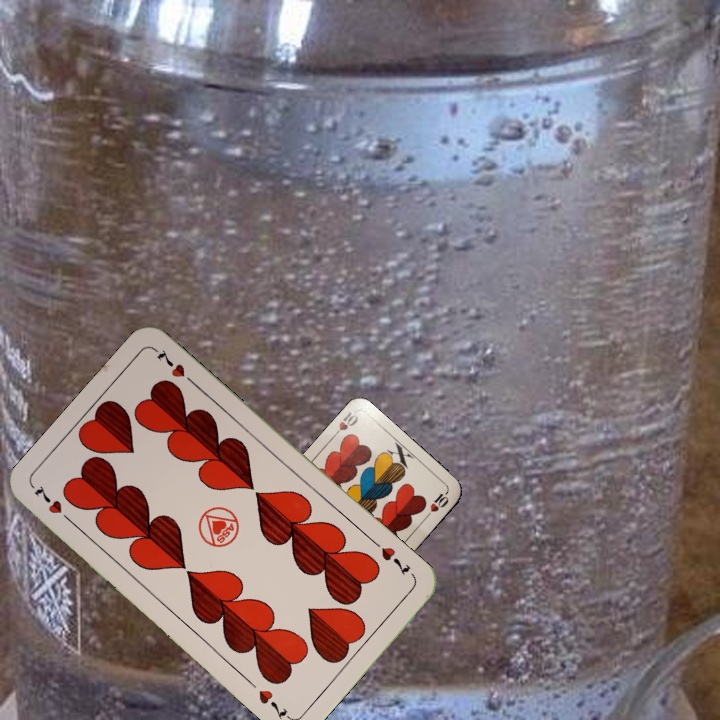H10: (327, 407, 361, 442)
H7: (29, 481, 77, 527), (368, 536, 413, 578)
